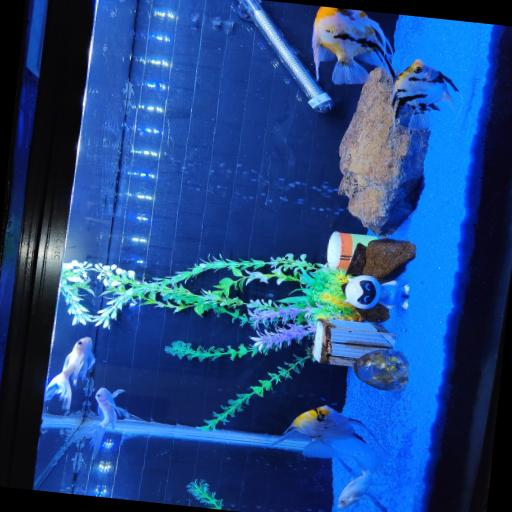Fish: (312, 7, 395, 83), (274, 405, 375, 458), (392, 59, 458, 130), (45, 337, 95, 409), (85, 387, 129, 456), (338, 457, 388, 511), (338, 459, 386, 507)
